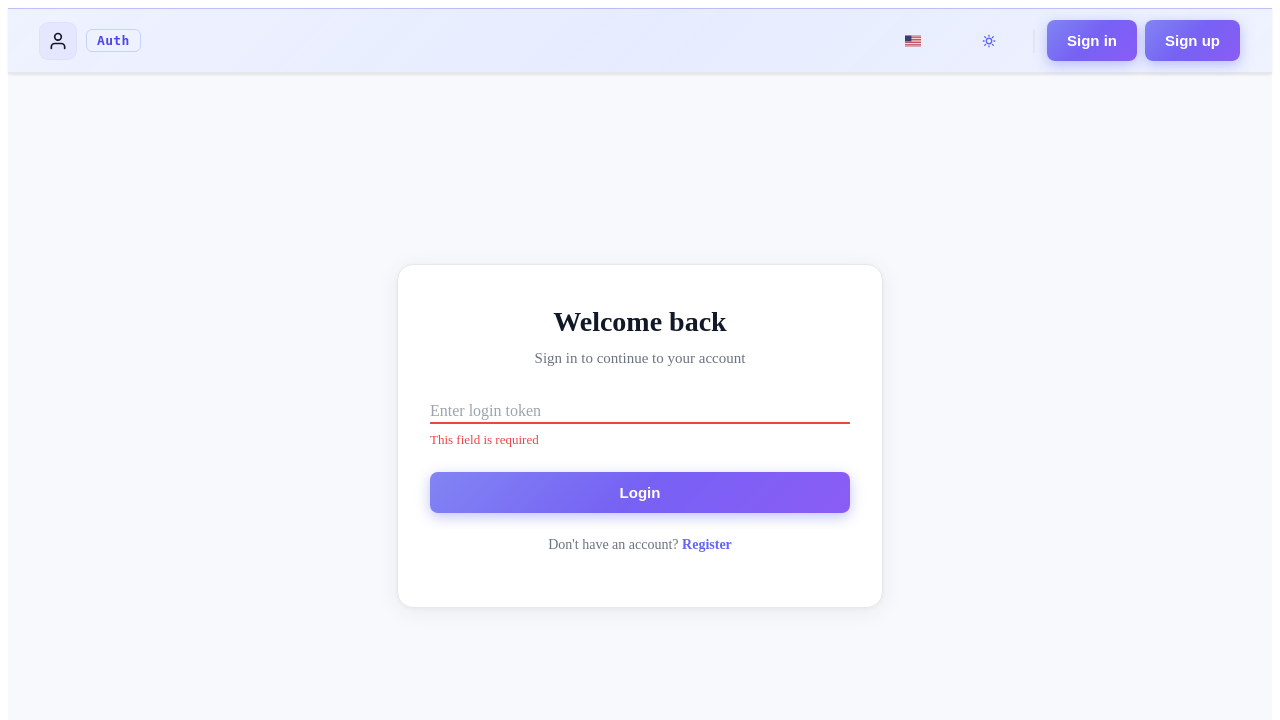
Scenario: Login Page › supports language switching to Vietnamese
The image size is (1280, 720).
Click the button with test id "language-selector" at point(913, 41), box [881,21,945,61]
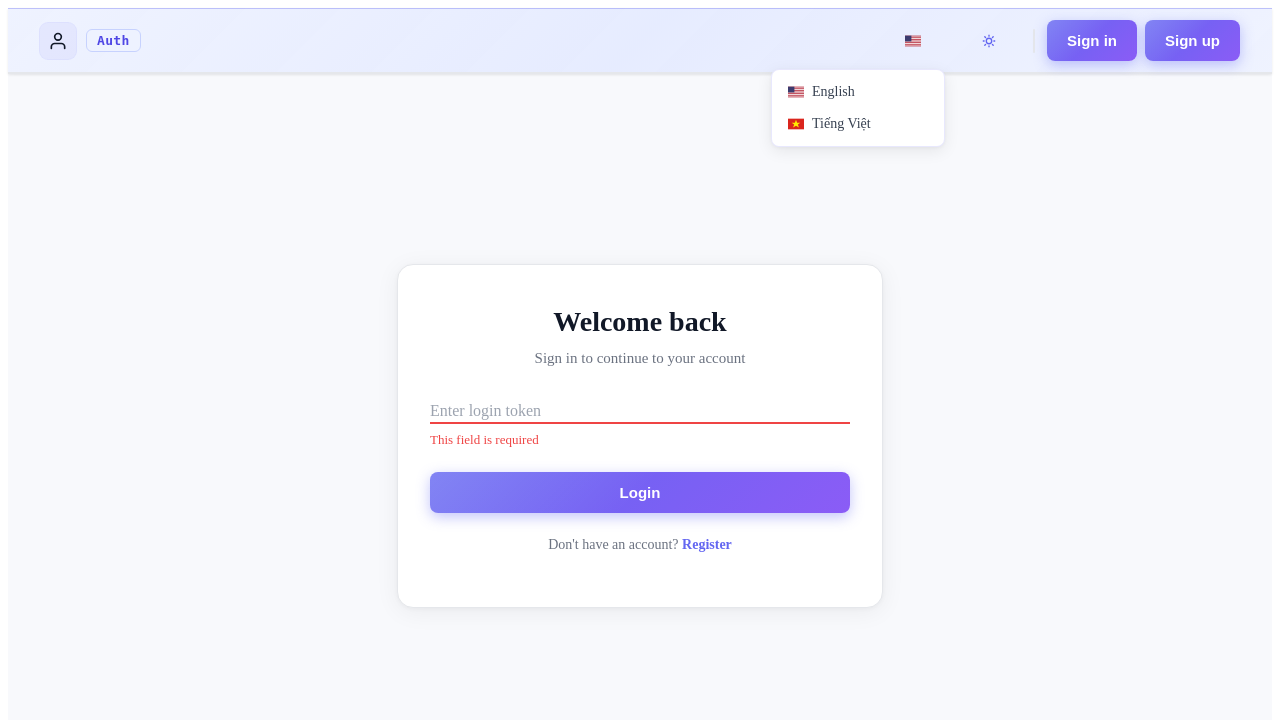
Click the button "Tiếng Việt" at point(858, 124), box [778,108,938,140]
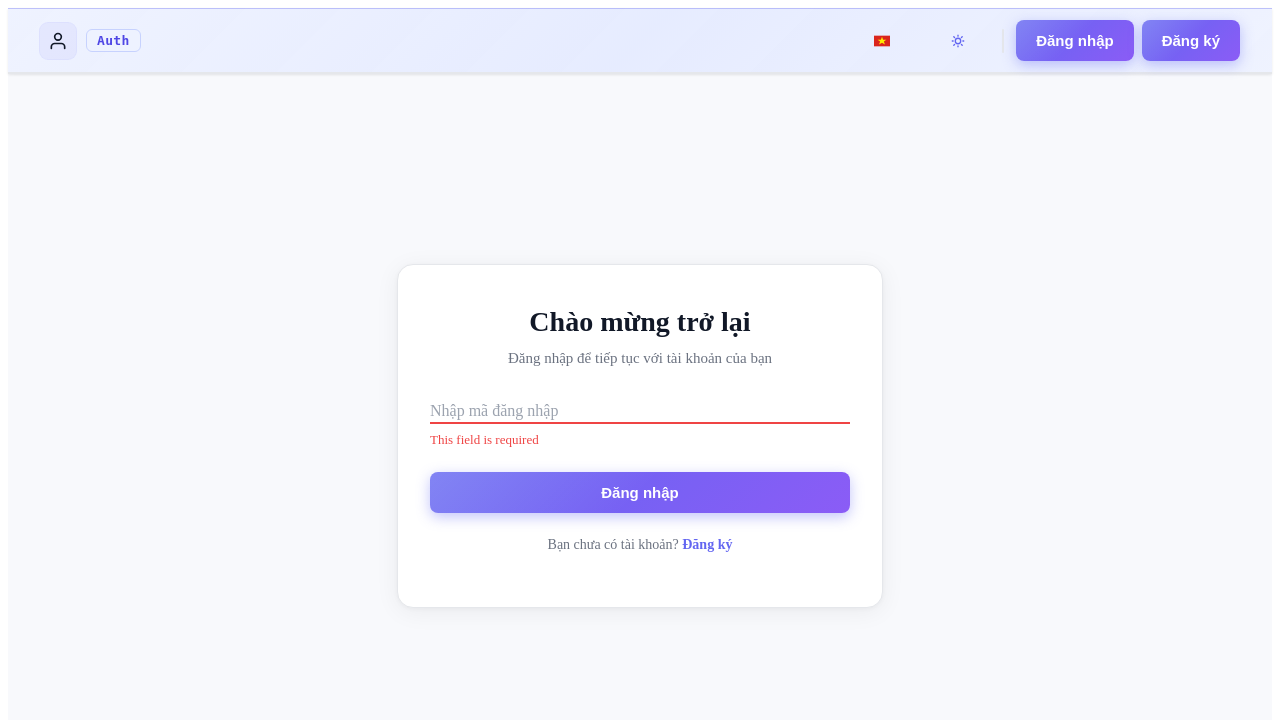
Expected: the heading "Chào mừng trở lại" is shown, [529,306,751,338]
Expected: the text "Đăng nhập để tiếp tục với tài khoản của bạn" is shown, [508,350,772,366]
Expected: the text "Bạn chưa có tài khoản?" is shown, [548,537,679,552]
